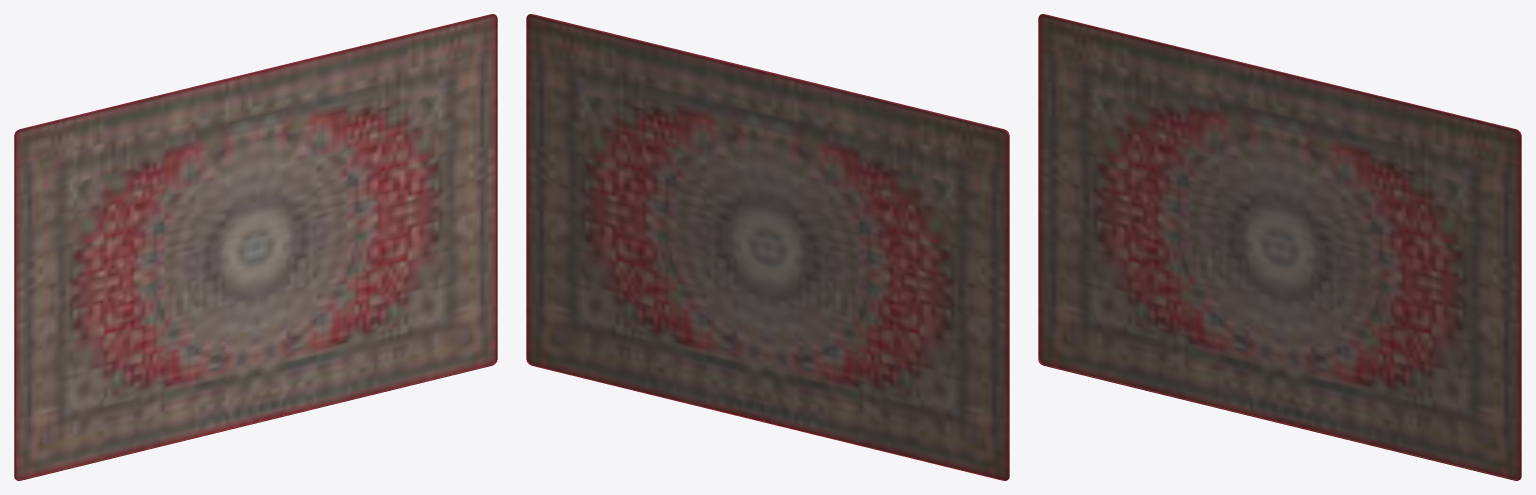
The model's file is carpet.glb.
3 renders of one model, left to right at view 1: azimuth 30°, elevation 25°; view 2: azimuth 150°, elevation 25°; view 3: azimuth 330°, elevation 25°, orthographic.
Parts seen in each view (by area): view 1: object_0; view 2: object_0; view 3: object_0.
Part boxes in pixels (box(x1,y1,x2,y2)): object_0: box(14, 14, 497, 480); object_0: box(526, 14, 1009, 480); object_0: box(1038, 14, 1521, 480).
Bounding box in the file's own units: 312 × 217 × 0.9769.
1 material, 1 textured.
